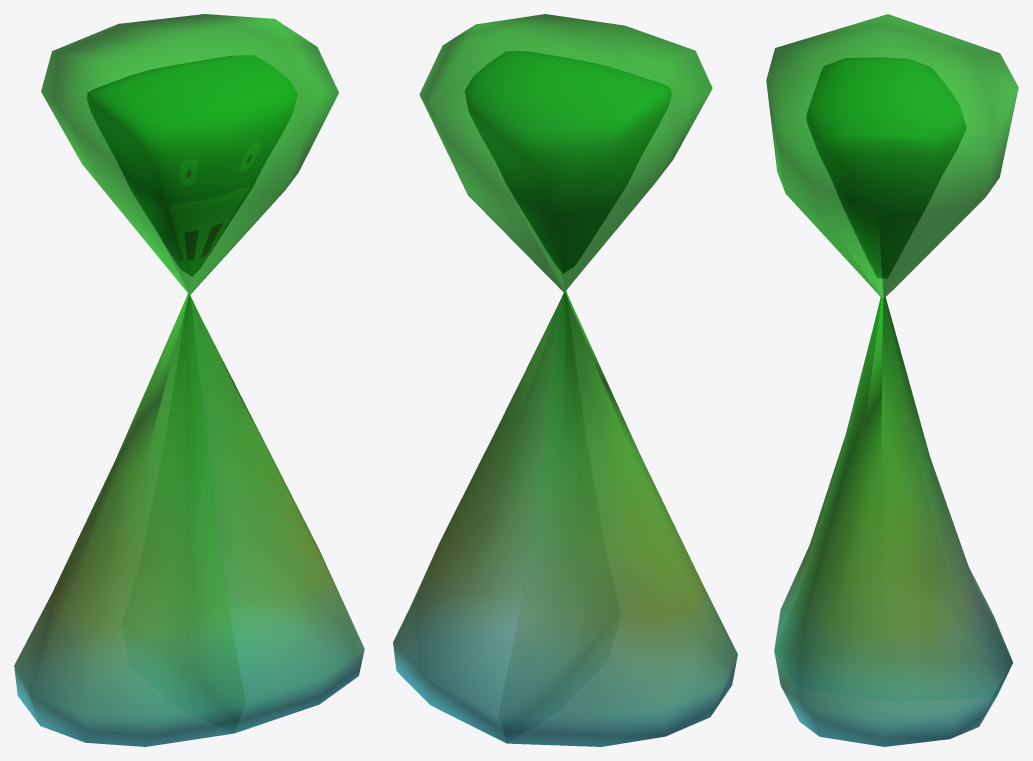
The model's file is mini boss3.fbx.
3 views of the same model, side by side, from view 1: azimuth 30°, elevation 25°; view 2: azimuth 150°, elevation 25°; view 3: azimuth 270°, elevation 25° (orthographic). The views are drawn at different scales.
Visible parts, largest first — view 1: miniboss3; view 2: miniboss3; view 3: miniboss3.
Boxes of the visible parts, x1,y1,x2,y2 form: miniboss3: [14, 14, 364, 746]; miniboss3: [393, 14, 737, 746]; miniboss3: [766, 14, 1018, 746].
Bounding box in the file's own units: 252 × 513 × 181.
